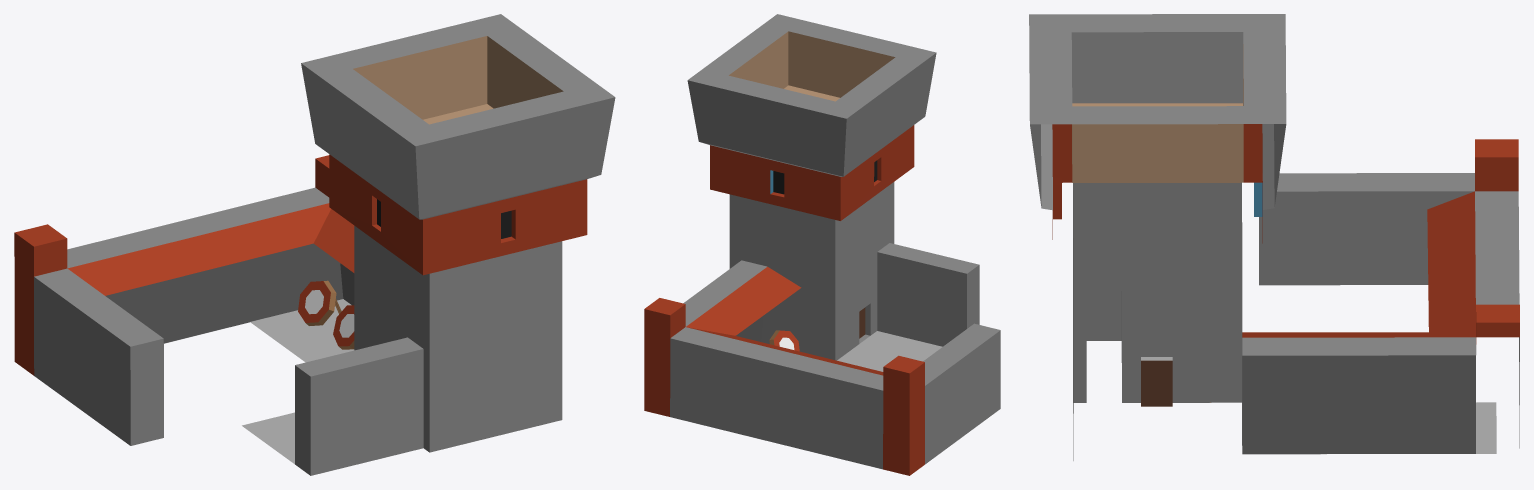
File: ArcheryRange_Model.glb
3 views of the same model, side by side, from view 1: azimuth 30°, elevation 25°; view 2: azimuth 150°, elevation 25°; view 3: azimuth 270°, elevation 25° (orthographic). The views are drawn at different scales.
Visible parts, largest first — view 1: ArcheryRange_Model; view 2: ArcheryRange_Model; view 3: ArcheryRange_Model.
Boxes of the visible parts, x1,y1,x2,y2 form: ArcheryRange_Model: (14,14,615,475); ArcheryRange_Model: (644,14,1000,475); ArcheryRange_Model: (1029,14,1519,460).
Bounding box in the file's own units: 15.44 × 12.67 × 15.18.
Materials: 1 (1 with a texture image).
